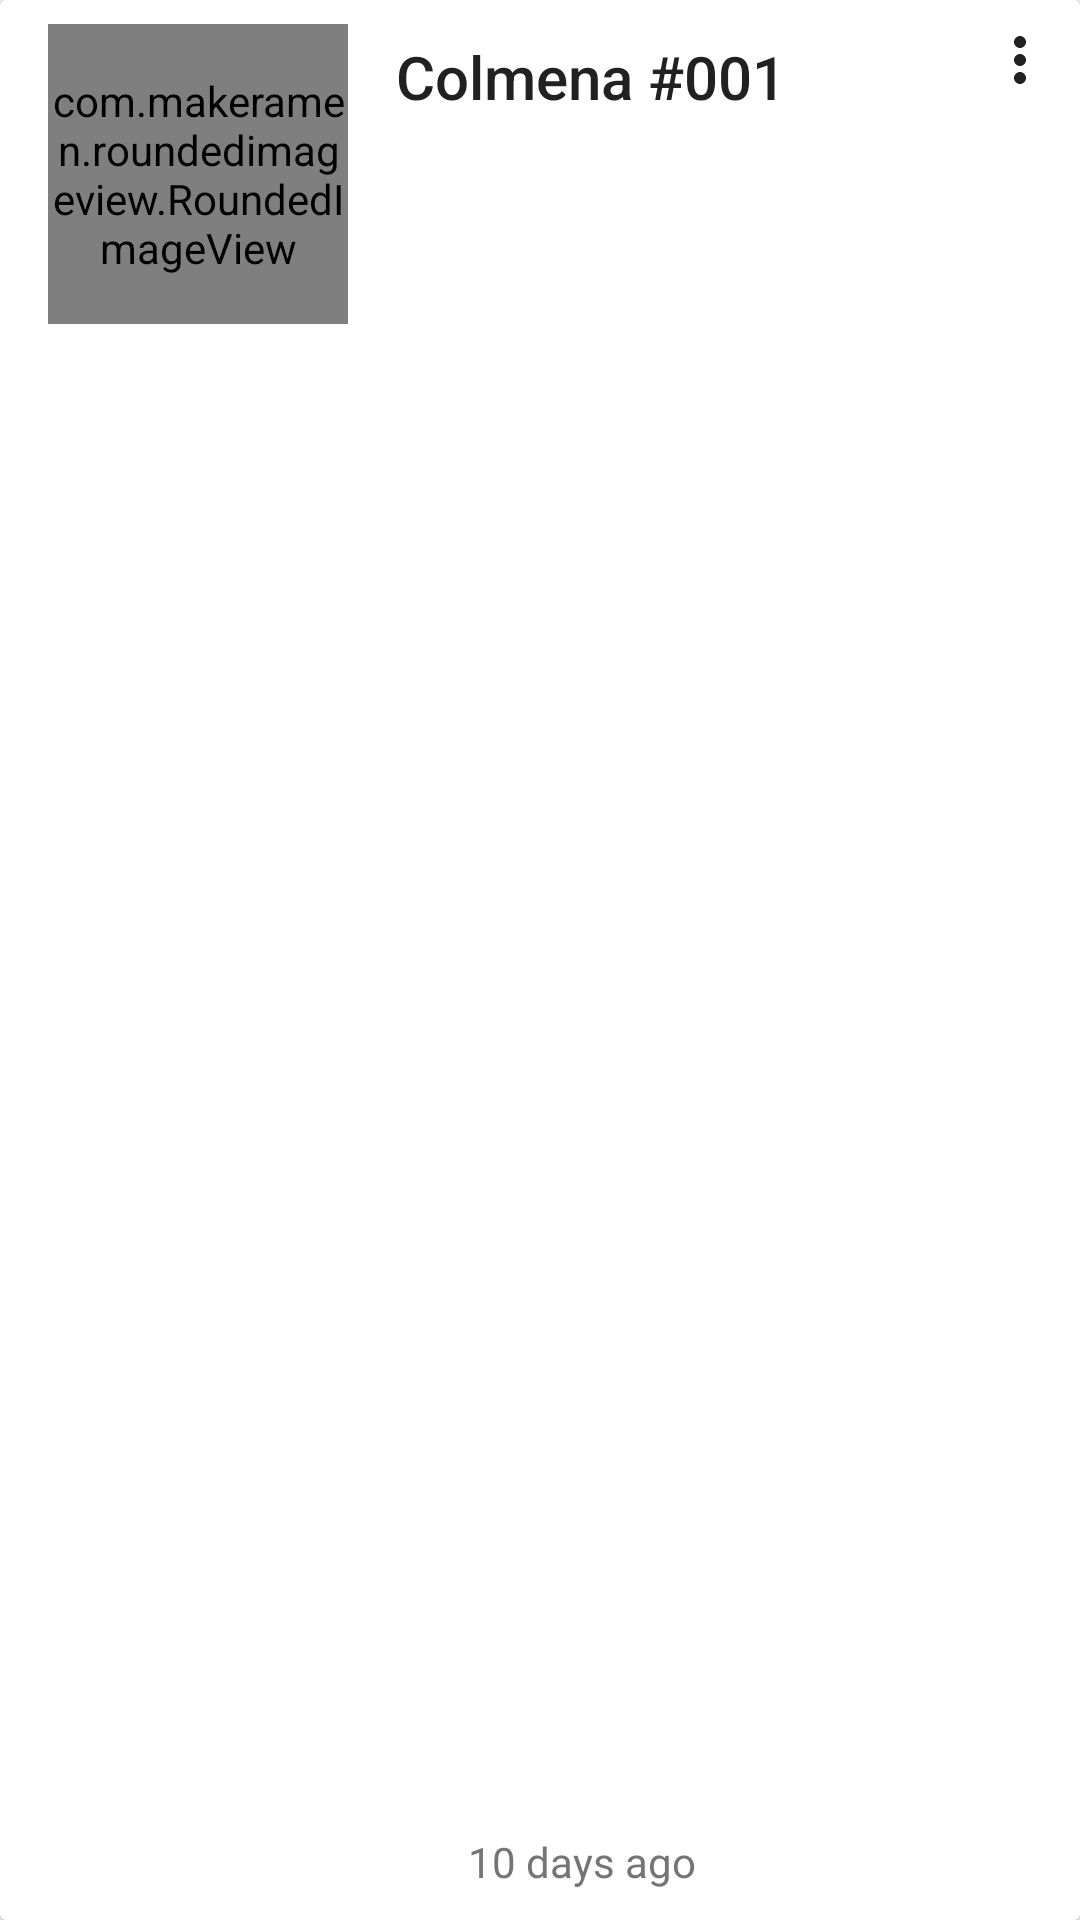

Named icons in this screenshot (1080 × 1920) and their bounding boxes, box=[x1, y1, x2, y2]:
More…: box=[1014, 36, 1026, 84]
